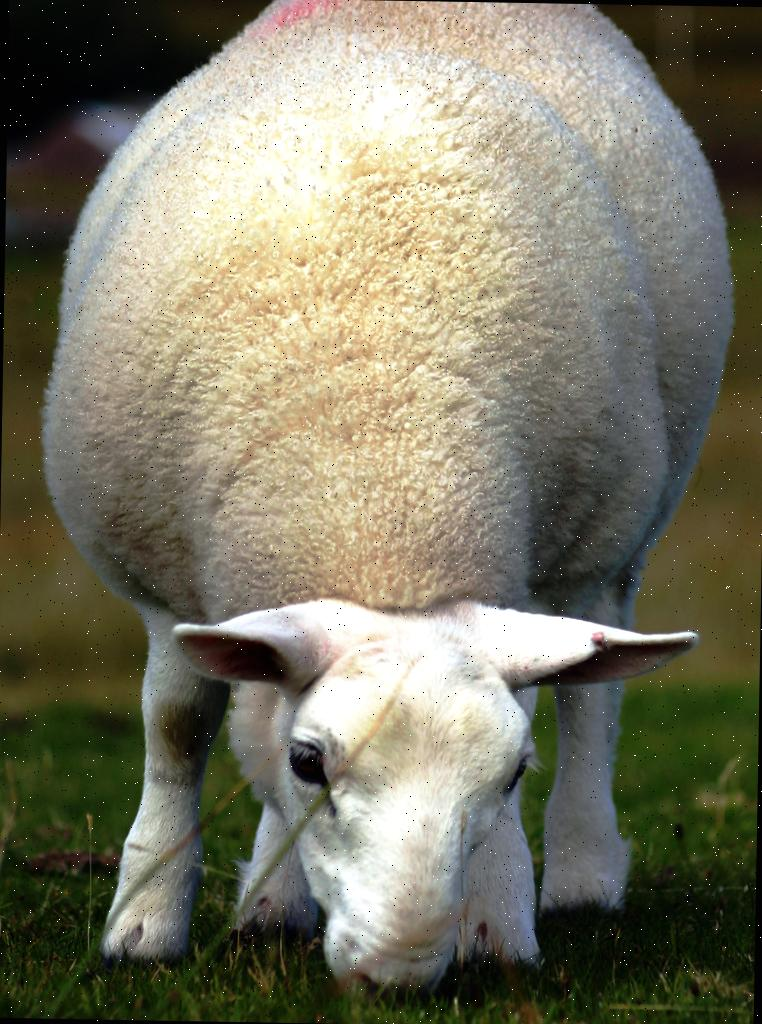Sheep: (30, 0, 740, 1010)
